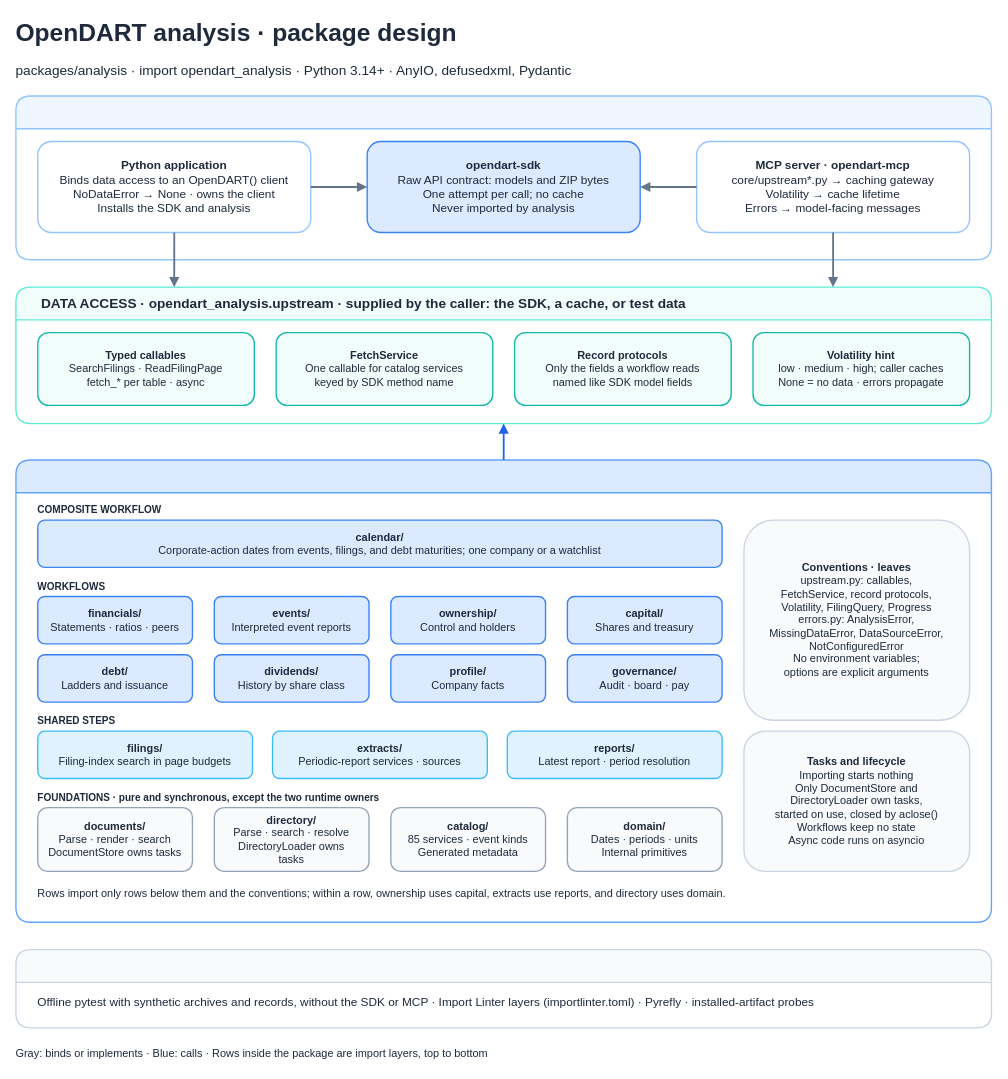
Image size: 1008x1079. Some labels were removed from this diagram. The shapes that lost their labels are listed below. From the top down, each one's box as (x1, y1, x2, y2) in pixels, then its label:
(15, 95, 992, 260): CALLERS · own clients, caches, and presentation
(15, 459, 992, 923): opendart-analysis · packages/analysis/src/opendart_analysis
(15, 948, 992, 1028): VALIDATION
